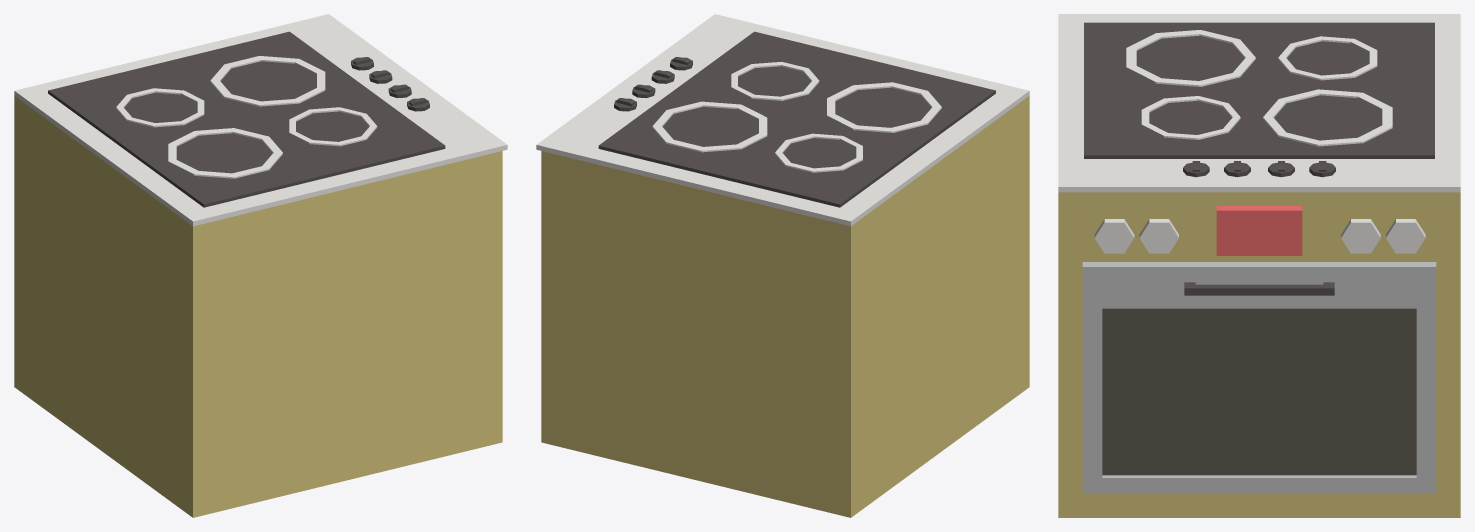
The model's file is KitchenTable3.fbx.
The picture shows the model from 3 angles, left to right: view 1: azimuth 30°, elevation 25°; view 2: azimuth 150°, elevation 25°; view 3: azimuth 270°, elevation 25°; orthographic projection. The views are drawn at different scales.
Visible parts, largest first — view 1: polySurface233; view 2: polySurface233; view 3: polySurface233.
Boxes of the visible parts, x1=… form: polySurface233: x1=14, y1=14, x2=507, y2=517; polySurface233: x1=536, y1=14, x2=1029, y2=517; polySurface233: x1=1058, y1=14, x2=1460, y2=517.
Bounding box in the file's own units: 106 × 93.5 × 100.
